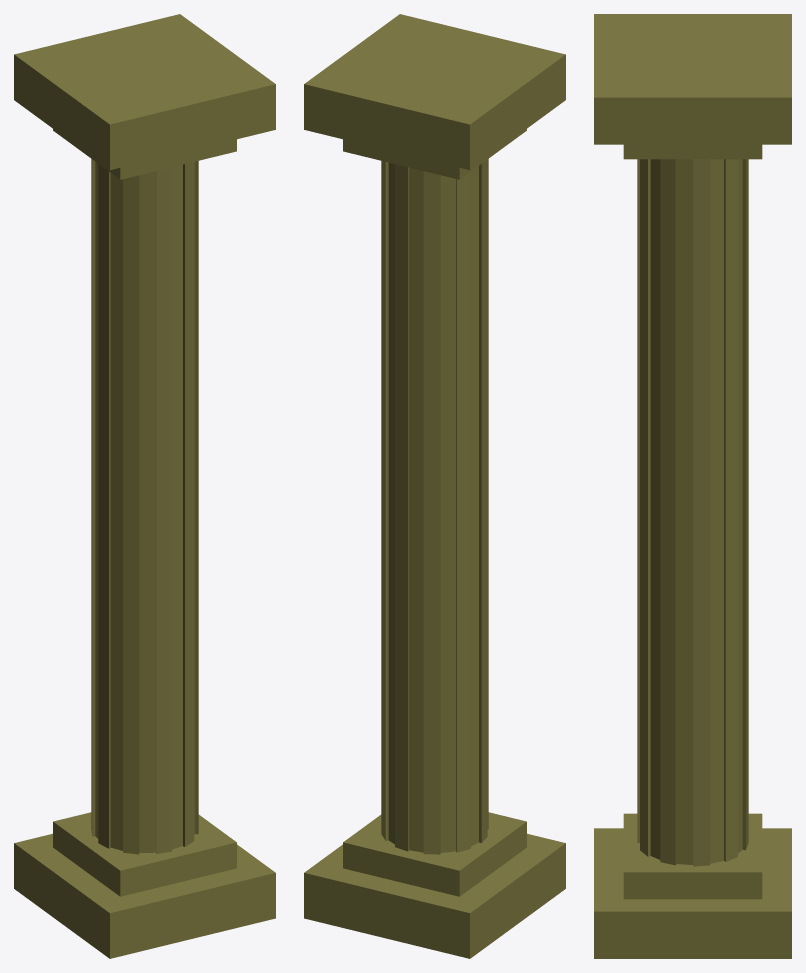
The model's file is colonneGrecque.fbx.
The picture shows the model from 3 angles, left to right: view 1: azimuth 30°, elevation 25°; view 2: azimuth 150°, elevation 25°; view 3: azimuth 270°, elevation 25°; orthographic projection. The views are drawn at different scales.
Visible parts, largest first — view 1: Cylinder, Cube.001, Cube; view 2: Cylinder, Cube.001, Cube; view 3: Cylinder, Cube.001, Cube.
Boxes of the visible parts, bbox=[...] form: Cylinder: bbox=[91, 159, 198, 854]; Cube.001: bbox=[14, 14, 275, 179]; Cube: bbox=[14, 812, 275, 958]; Cylinder: bbox=[381, 159, 488, 854]; Cube.001: bbox=[304, 14, 565, 179]; Cube: bbox=[304, 812, 565, 958]; Cylinder: bbox=[637, 159, 748, 866]; Cube.001: bbox=[594, 14, 791, 159]; Cube: bbox=[594, 813, 791, 958].
Size of the model in its own units: 2 by 9.61 by 2.
